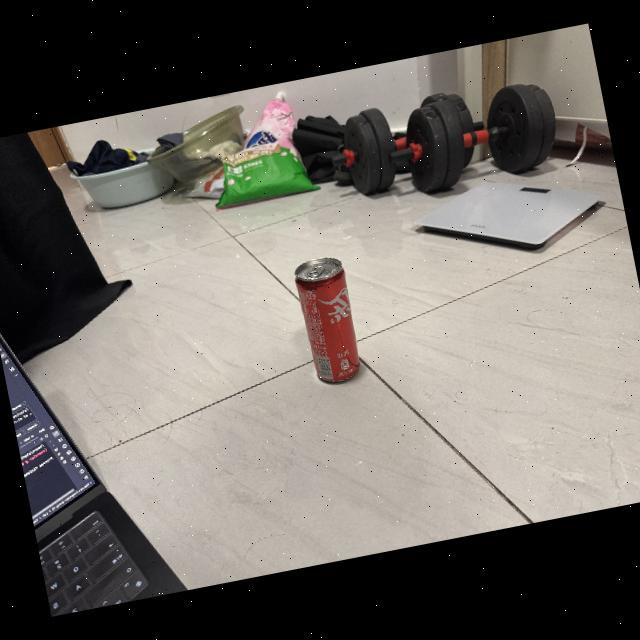Cola: (283, 246, 375, 392)
